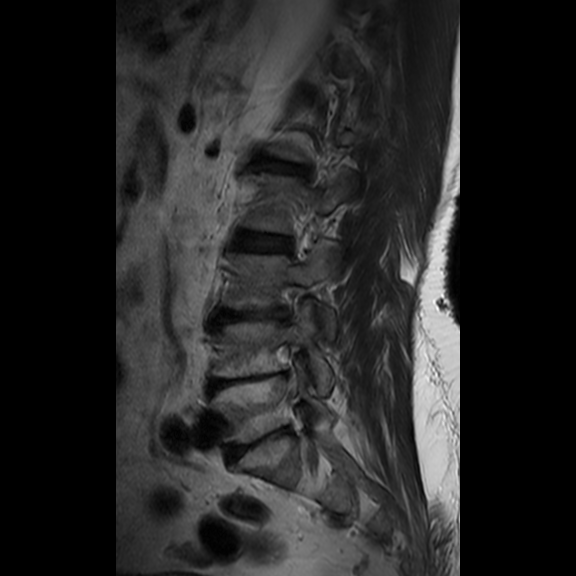LFS3: (270, 269, 309, 328)
